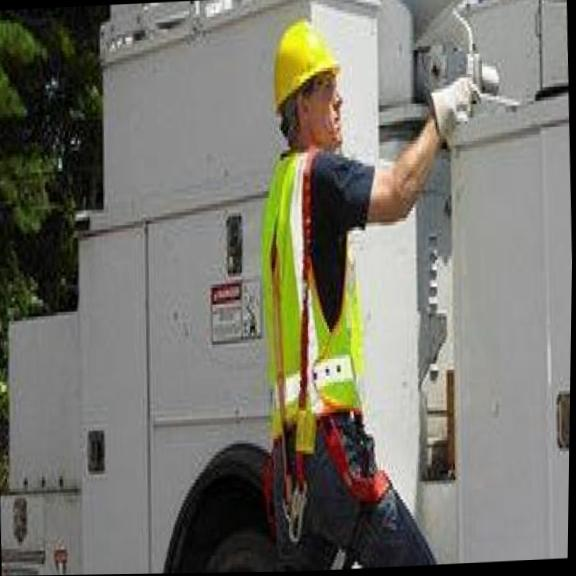safety_vest: (261, 142, 379, 439)
